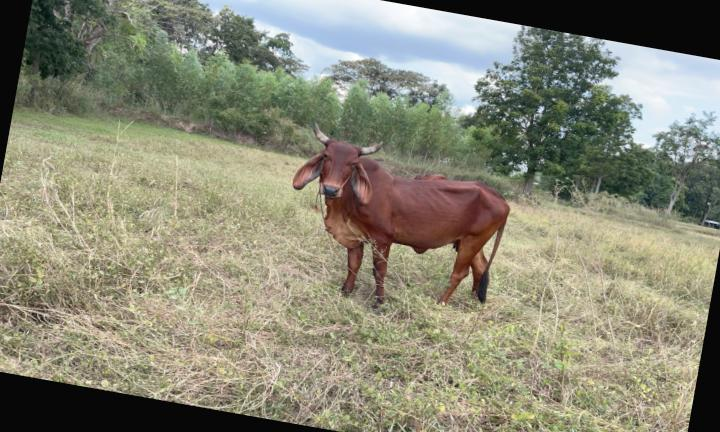Brahman: (293, 126, 510, 307)
